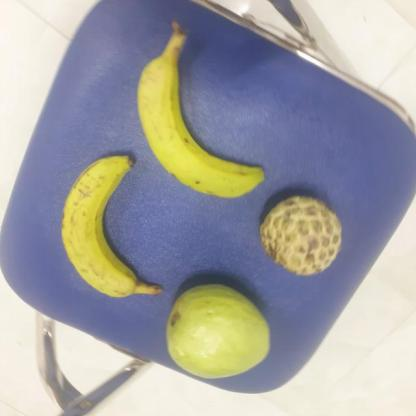annona: (261, 194, 347, 275)
banana: (140, 42, 273, 196), (61, 158, 164, 297)
guava: (167, 282, 274, 381), (262, 193, 350, 277)
